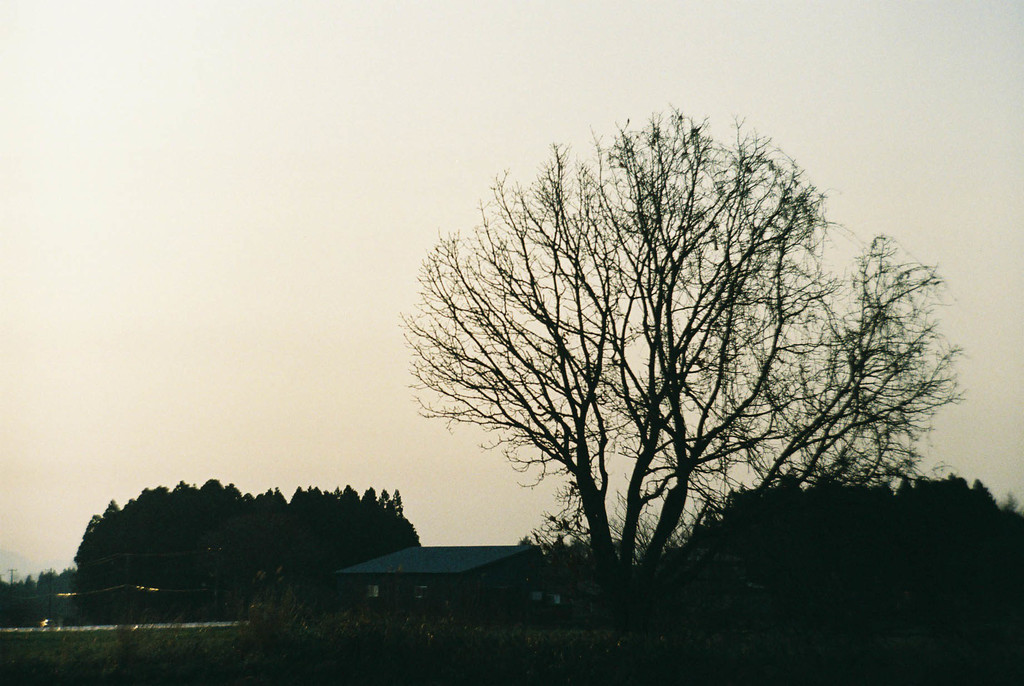Tree: (406, 92, 934, 611), (71, 473, 423, 606), (720, 470, 1023, 620), (0, 568, 80, 609)
